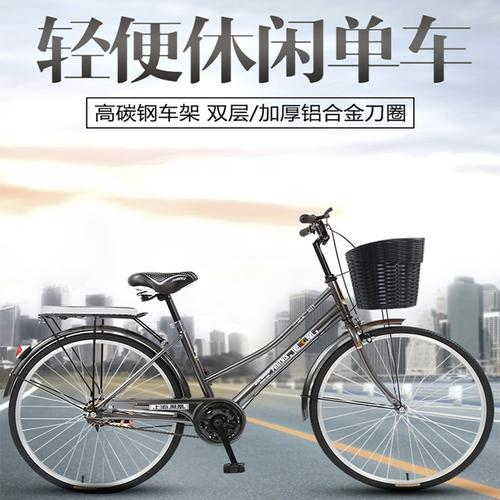单车: (3, 201, 500, 498)
